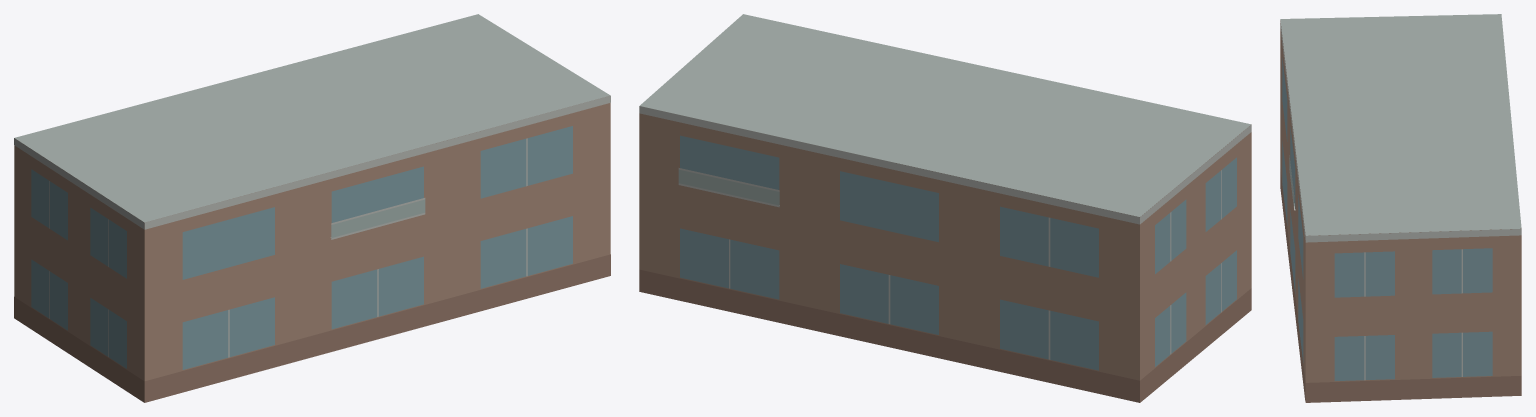
The model's file is survey-upis-32699743.glb.
3 views of the same model, side by side, from view 1: azimuth 30°, elevation 25°; view 2: azimuth 150°, elevation 25°; view 3: azimuth 270°, elevation 25° (orthographic). The views are drawn at different scales.
Visible parts, largest first — view 1: survey-upis-32699743.tmp; view 2: survey-upis-32699743.tmp; view 3: survey-upis-32699743.tmp.
Part boxes in pixels (left/top/right/bottom): survey-upis-32699743.tmp: left=14, top=14, right=610, bottom=402; survey-upis-32699743.tmp: left=639, top=14, right=1251, bottom=402; survey-upis-32699743.tmp: left=1280, top=14, right=1521, bottom=402.
Bounding box in the file's own units: 17.39 × 6.1 × 8.
